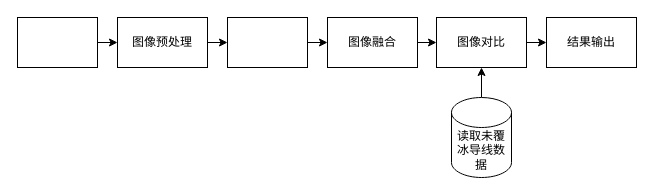
The diagram is 654 pixels wide and 195 high, and some of its shapes have lost their labels. The centre of each missing label's shape, as x and y in pixels:
"图像输入" goes at (57,42).
"边缘提取" goes at (267,42).
